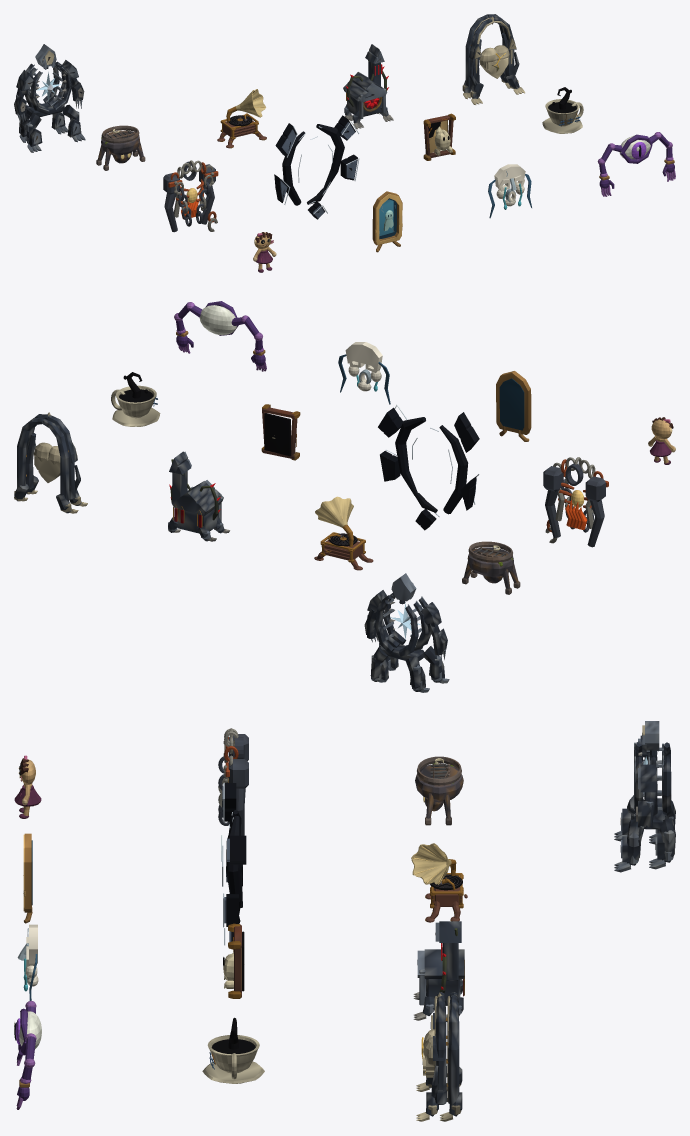
The model's file is batch01-13.fbx.
3 renders of one model, top to bottom at view 1: azimuth 30°, elevation 25°; view 2: azimuth 150°, elevation 25°; view 3: azimuth 270°, elevation 25°, orthographic. The views are drawn at different scales.
Parts seen in each view (by area): view 1: the_last_star, cathedral_heart, the_void, soul_chains, thorn_cathedral, watching_eye, haunted_mirror, pale_gramophone, coin_crawler, cold_teacup, crying_mask, pale_guest (+1 smaller); view 2: the_last_star, the_void, cathedral_heart, soul_chains, thorn_cathedral, watching_eye, pale_gramophone, haunted_mirror, coin_crawler, cold_teacup, pale_guest, crying_mask (+1 smaller); view 3: the_last_star, cathedral_heart, thorn_cathedral, the_void, pale_gramophone, cold_teacup, coin_crawler, soul_chains, watching_eye, pale_guest, cursed_doll, crying_mask (+1 smaller).
Part boxes in pixels (<box>): the_last_star: <box>14,44,85,152</box>; cathedral_heart: <box>462,14,525,104</box>; the_void: <box>274,115,359,219</box>; soul_chains: <box>163,160,218,232</box>; thorn_cathedral: <box>343,44,393,129</box>; watching_eye: <box>597,132,675,196</box>; haunted_mirror: <box>372,191,402,252</box>; pale_gramophone: <box>217,89,266,148</box>; coin_crawler: <box>96,125,145,170</box>; cold_teacup: <box>542,87,583,133</box>; crying_mask: <box>488,164,531,218</box>; pale_guest: <box>423,113,455,160</box>; the_last_star: <box>364,573,449,692</box>; the_void: <box>378,405,479,530</box>; cathedral_heart: <box>14,412,87,513</box>; soul_chains: <box>543,457,608,547</box>; thorn_cathedral: <box>168,451,230,541</box>; watching_eye: <box>174,301,266,371</box>; pale_gramophone: <box>314,496,373,570</box>; haunted_mirror: <box>496,371,531,441</box>; coin_crawler: <box>462,541,520,594</box>; cold_teacup: <box>111,372,160,426</box>; pale_guest: <box>261,404,300,460</box>; crying_mask: <box>338,342,390,404</box>; the_last_star: <box>614,721,675,872</box>; cathedral_heart: <box>416,992,462,1121</box>; thorn_cathedral: <box>413,921,464,1021</box>; the_void: <box>221,783,246,945</box>; pale_gramophone: <box>411,843,467,922</box>; cold_teacup: <box>202,1017,264,1083</box>; coin_crawler: <box>415,756,463,825</box>; soul_chains: <box>218,728,248,835</box>; watching_eye: <box>14,1000,41,1109</box>; pale_guest: <box>223,923,244,998</box>; cursed_doll: <box>14,755,41,818</box>; crying_mask: <box>17,924,38,1000</box>.
Size of the model in its own units: 57.05 by 12.6 by 51.49.
